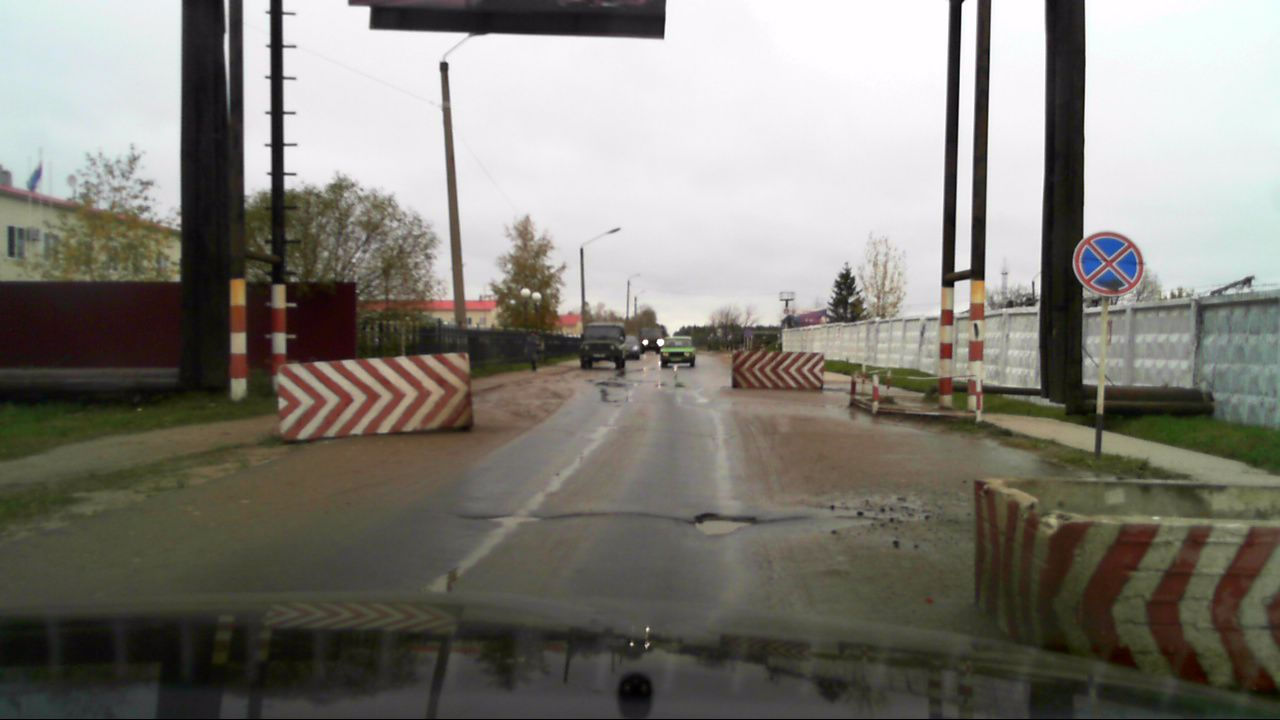No Parking: (1072, 232, 1144, 295)
